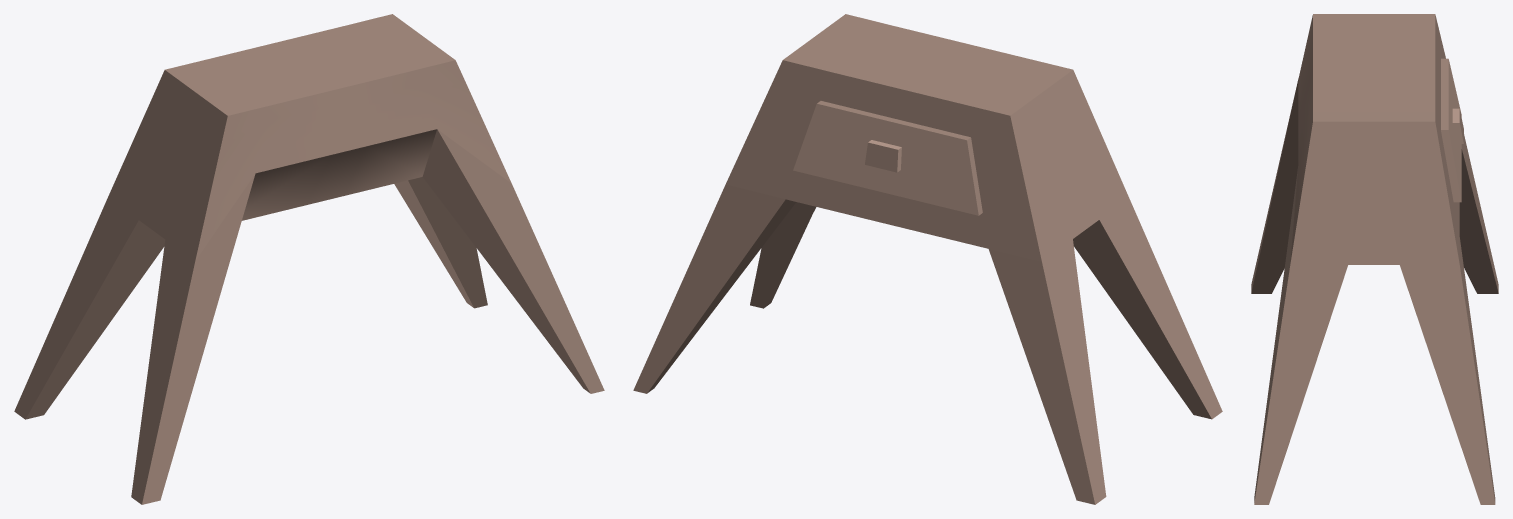
File: dresser.fbx
3 renders of one model, left to right at view 1: azimuth 30°, elevation 25°; view 2: azimuth 150°, elevation 25°; view 3: azimuth 270°, elevation 25°, orthographic. The views are drawn at different scales.
Parts seen in each view (by area): view 1: pCube42; view 2: pCube42; view 3: pCube42.
Boxes of the visible parts, x1,y1,x2,y2 form: pCube42: (14,14,604,504); pCube42: (633,14,1222,504); pCube42: (1251,14,1498,504).
Size of the model in its own units: 1.47 by 1.02 by 0.7014.
